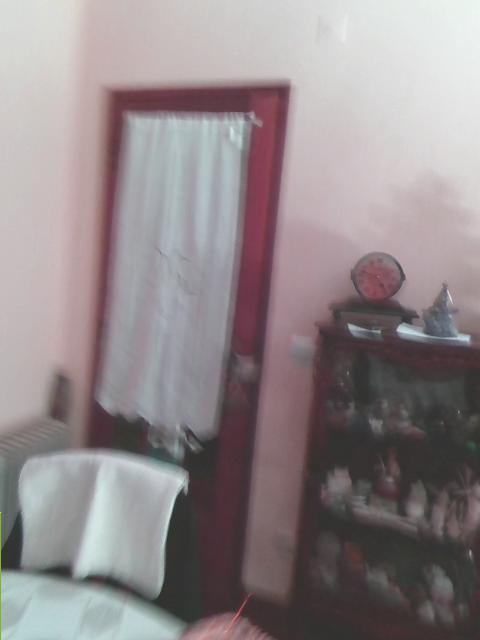closed_door: (83, 77, 286, 639)
